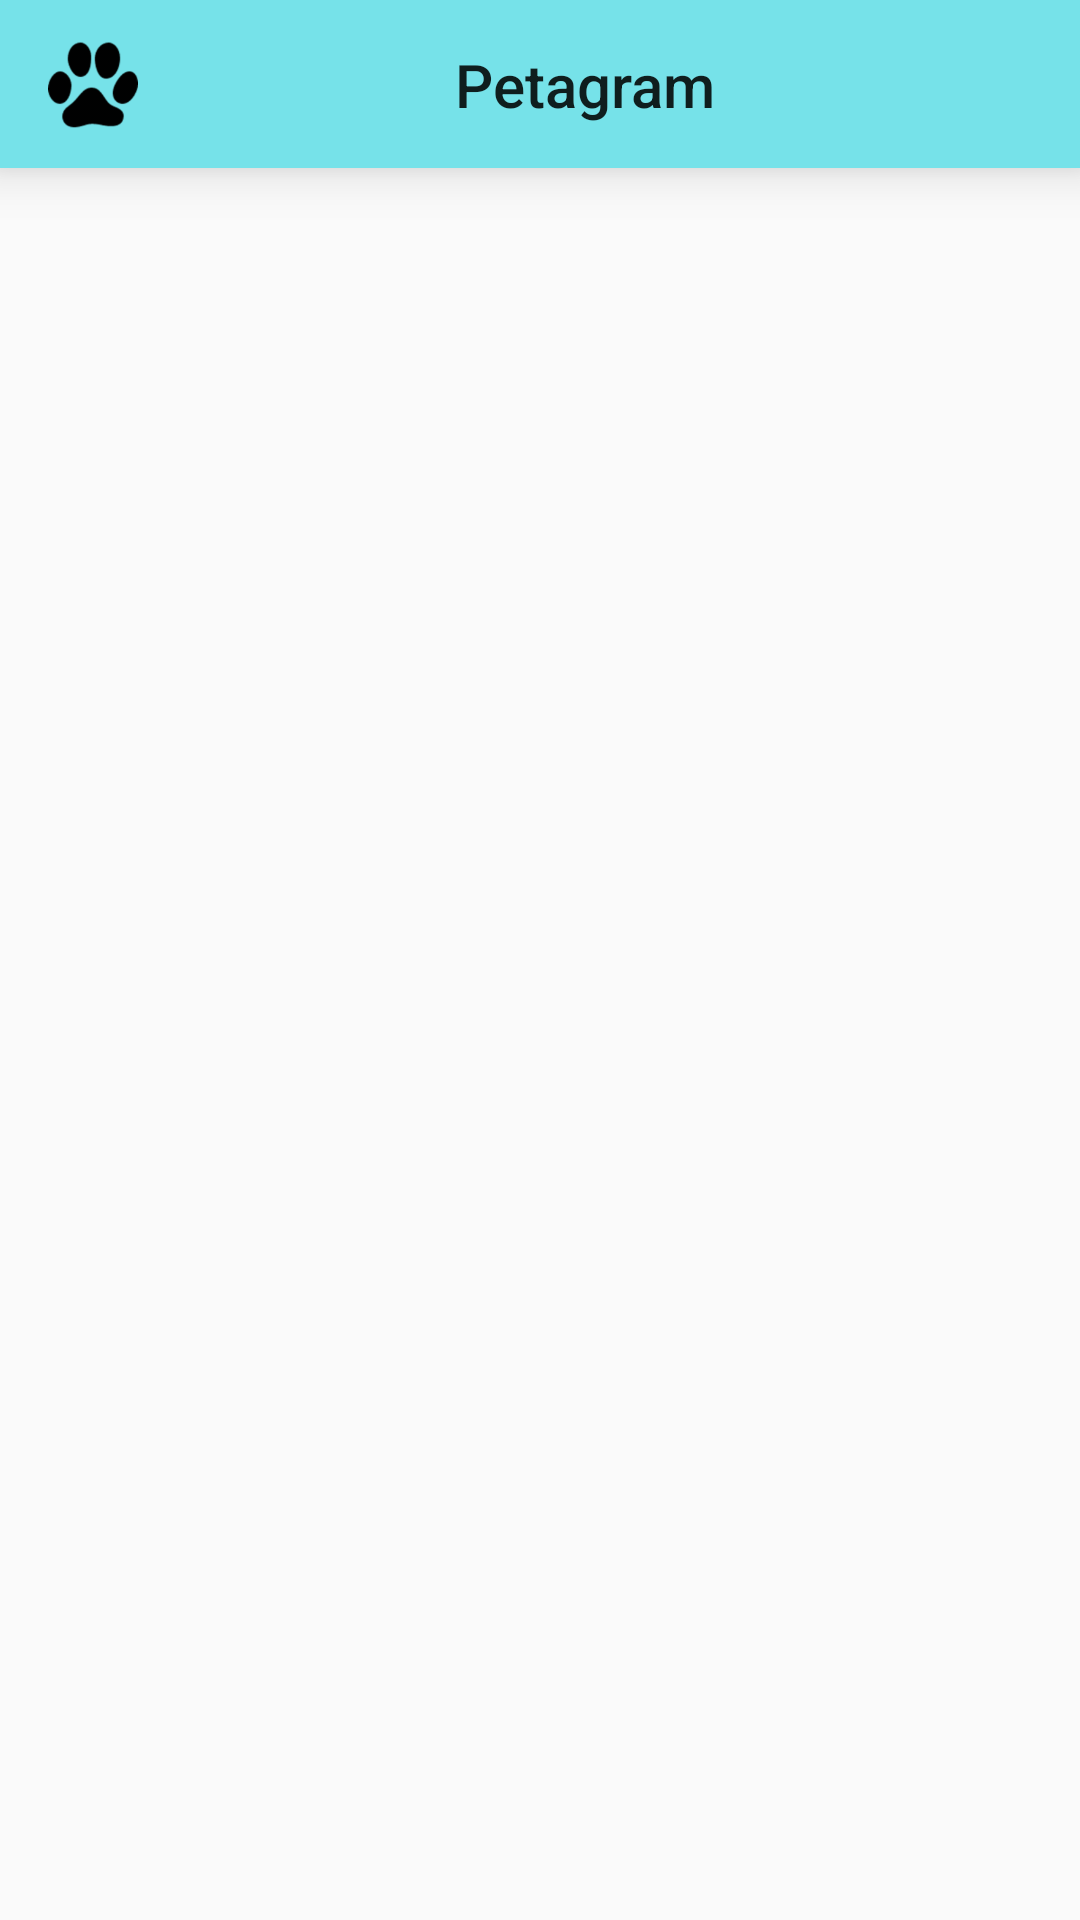

Locate icon controls on the screen. Image size 1080×1920, boxes as (x1, y1, x2, y2).
paw: (48, 42, 138, 128)
